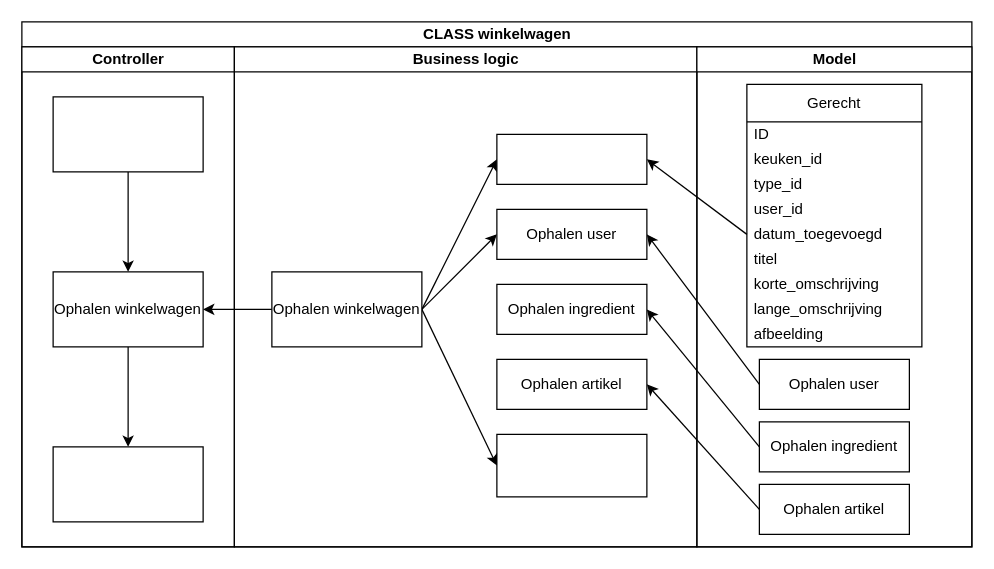
This 994x569 diagram has some shape labels left out. Here are the shapes that lost their labels. From the top down, the centre of each, then its label:
At (x=127, y=134): "Initialisatie".
At (x=571, y=158): "Ophalen gerecht".
At (x=127, y=484): "Winkelwagen tonen".
At (x=571, y=465): "Bereken optimale aantallen van iedere boodschap".
